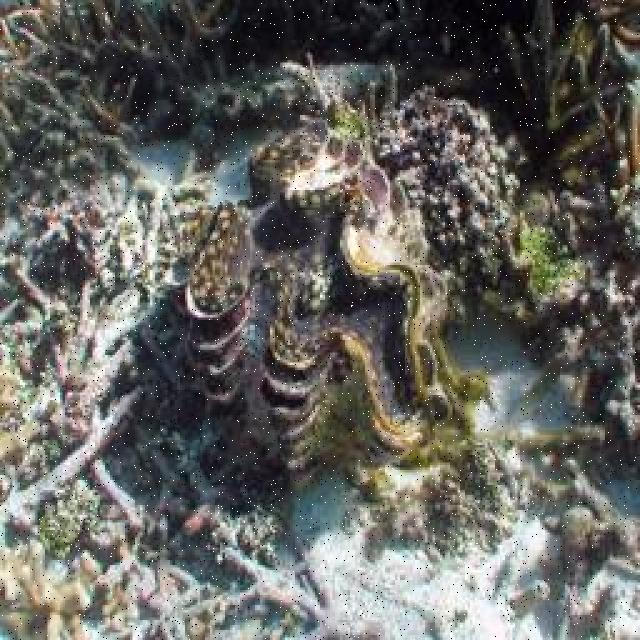reefs: (163, 114, 457, 497), (370, 88, 516, 294)
